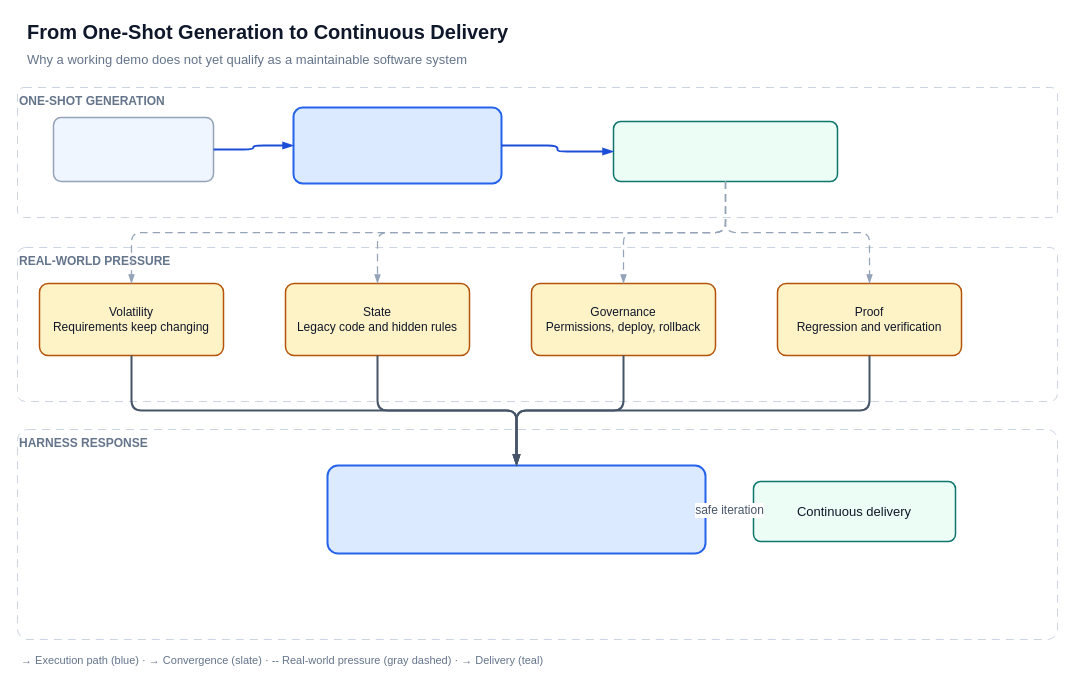
Image size: 1075x686. Some labels were removed from this diagram. Each missing label, with the centre of its shape:
"Coding model" belongs at [397,145].
"Harness Engineering context · execution · validation" belongs at [516,509].
"Natural-language prompt" belongs at [133,149].
"Working demo" belongs at [725,151].
